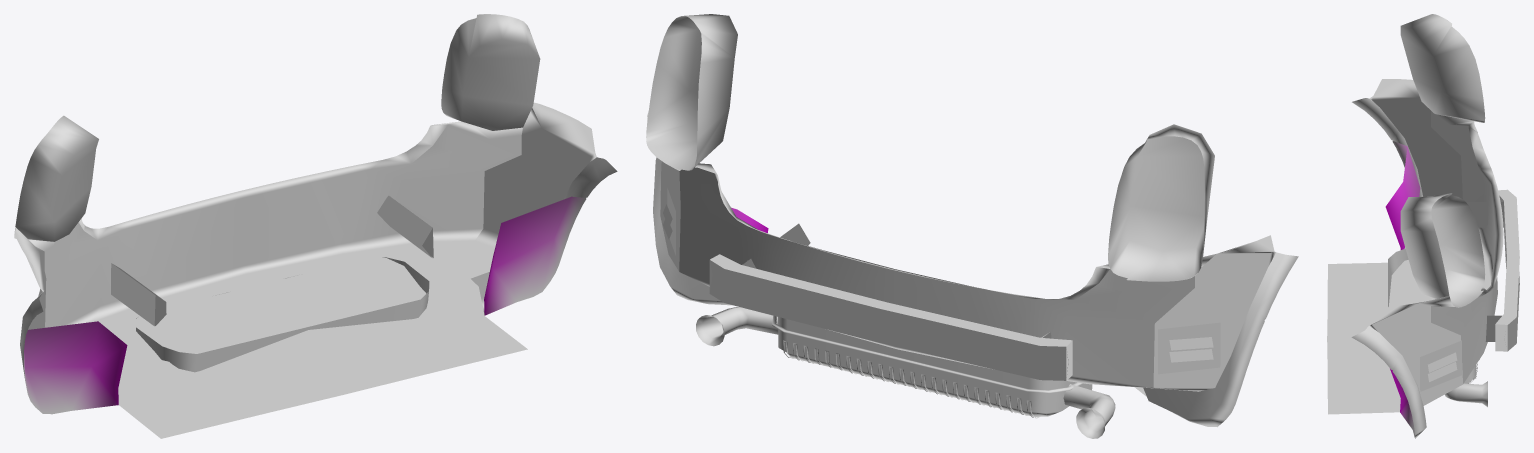
File: Car_Mini_CountrymanJCW_2017_BumperChassisR_SetA.fbx
3 views of the same model, side by side, from view 1: azimuth 30°, elevation 25°; view 2: azimuth 150°, elevation 25°; view 3: azimuth 270°, elevation 25° (orthographic). The views are drawn at different scales.
Parts seen in each view (by area): view 1: BumperChassisR 6; view 2: BumperChassisR 6; view 3: BumperChassisR 6.
Part boxes in pixels (x1,y1,x2,y2): BumperChassisR 6: (14,14,617,438); BumperChassisR 6: (646,14,1298,438); BumperChassisR 6: (1327,14,1519,438).
Size of the model in its own units: 1.75 by 0.8078 by 0.6048.
